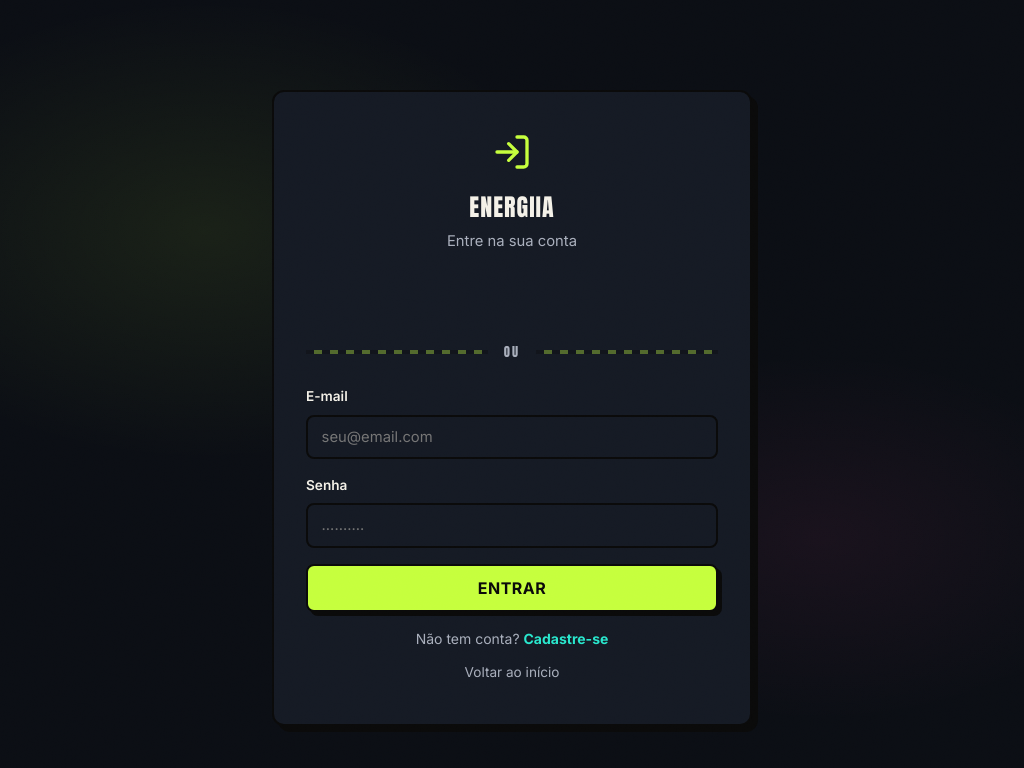
Test: Login › shows error message on failed login
The width and height of the screenshot is (1024, 768).
In the field labelled "E-mail": coordinates (512, 437) [306,415,718,459], type "wrong@email.com"
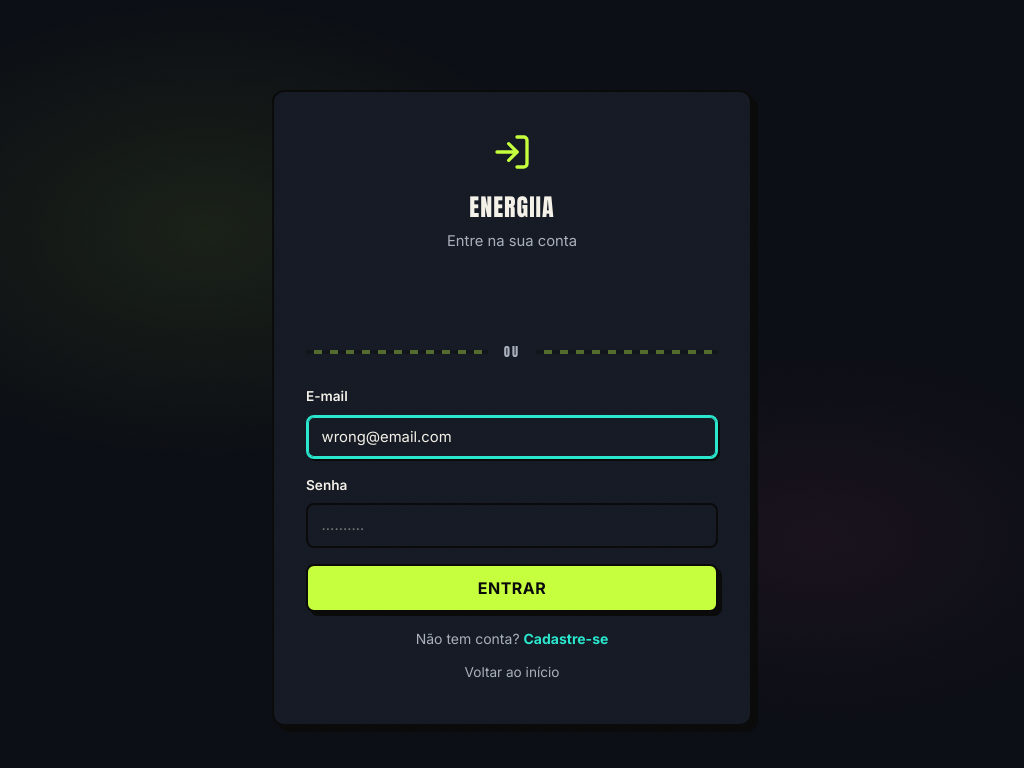
In the password field labelled "Senha": coordinates (512, 525) [306,503,718,548], type "wrongpass"
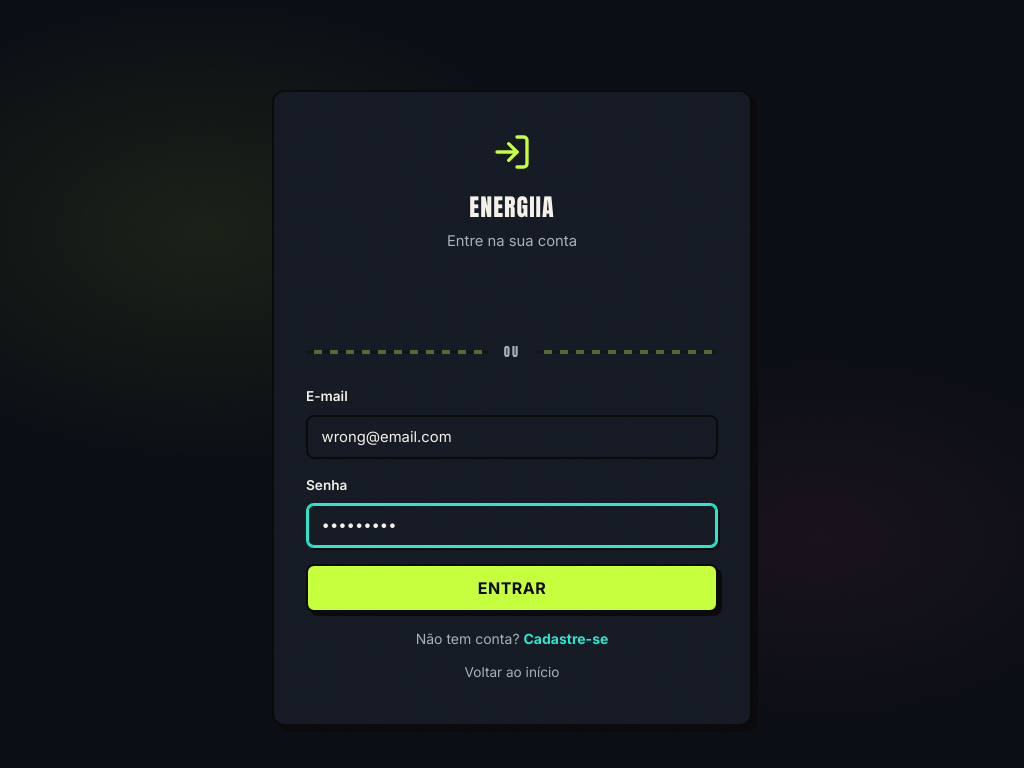
Click the button "Entrar": coordinates (512, 588) [306,564,718,612]
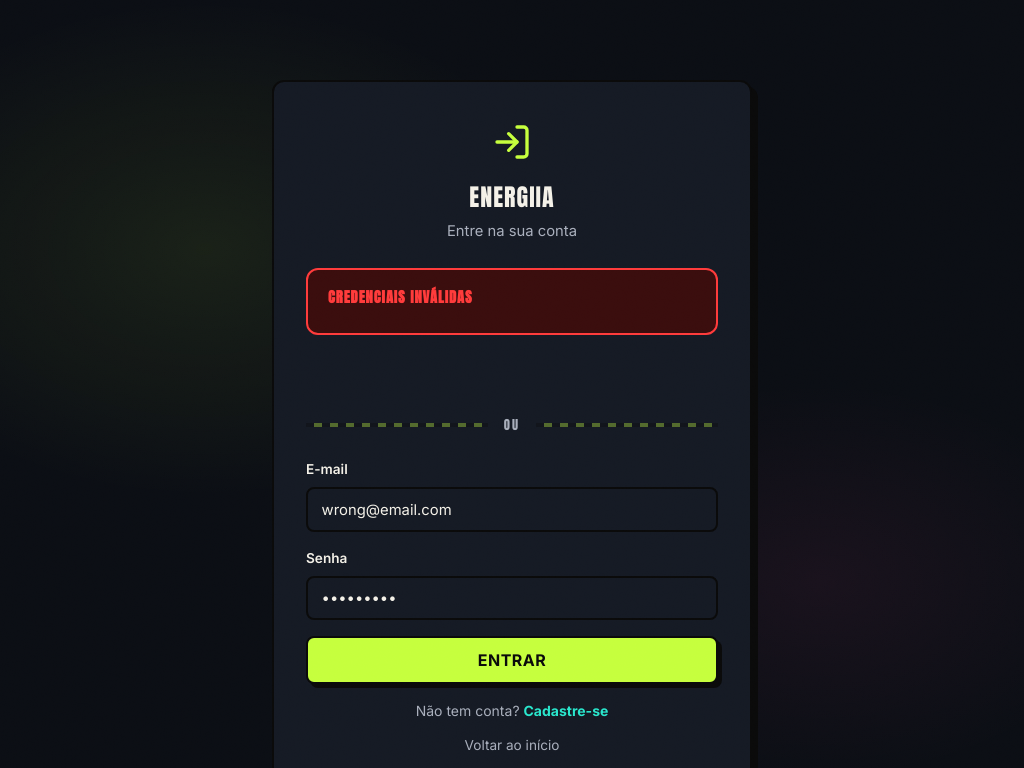
Expected: the text "Credenciais inválidas" is shown, [328,286,473,308]
